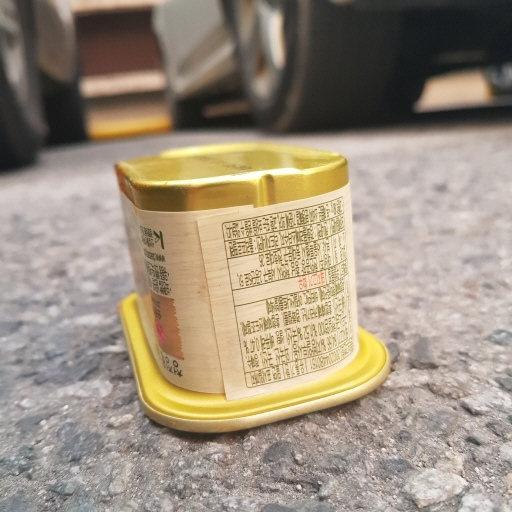Metal_2: (104, 140, 394, 442)
